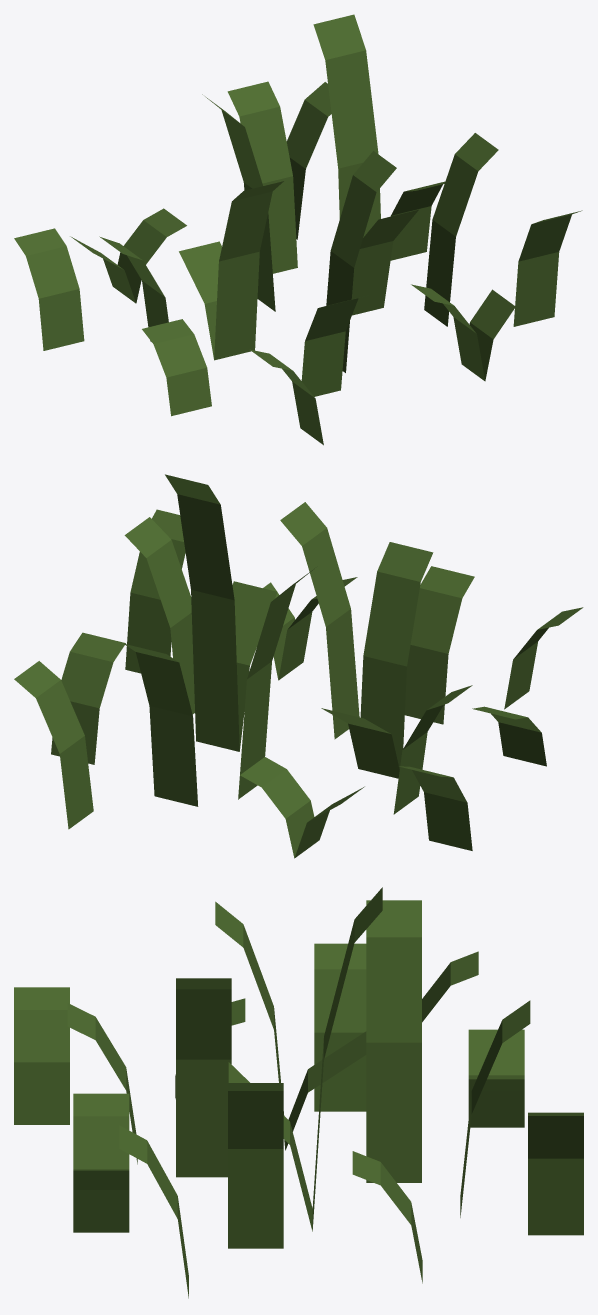
Rendered from grass_large.glb.
3 renders of one model, top to bottom at view 1: azimuth 30°, elevation 25°; view 2: azimuth 150°, elevation 25°; view 3: azimuth 270°, elevation 25°, orthographic. The views are drawn at different scales.
Visible parts, largest first — view 1: grass_large; view 2: grass_large; view 3: grass_large.
Boxes of the visible parts, x1,y1,x2,y2 form: grass_large: (14, 14, 582, 445); grass_large: (14, 474, 583, 858); grass_large: (14, 887, 583, 1298).
Bounding box in the file's own units: 0.409 × 0.254 × 0.4079.
